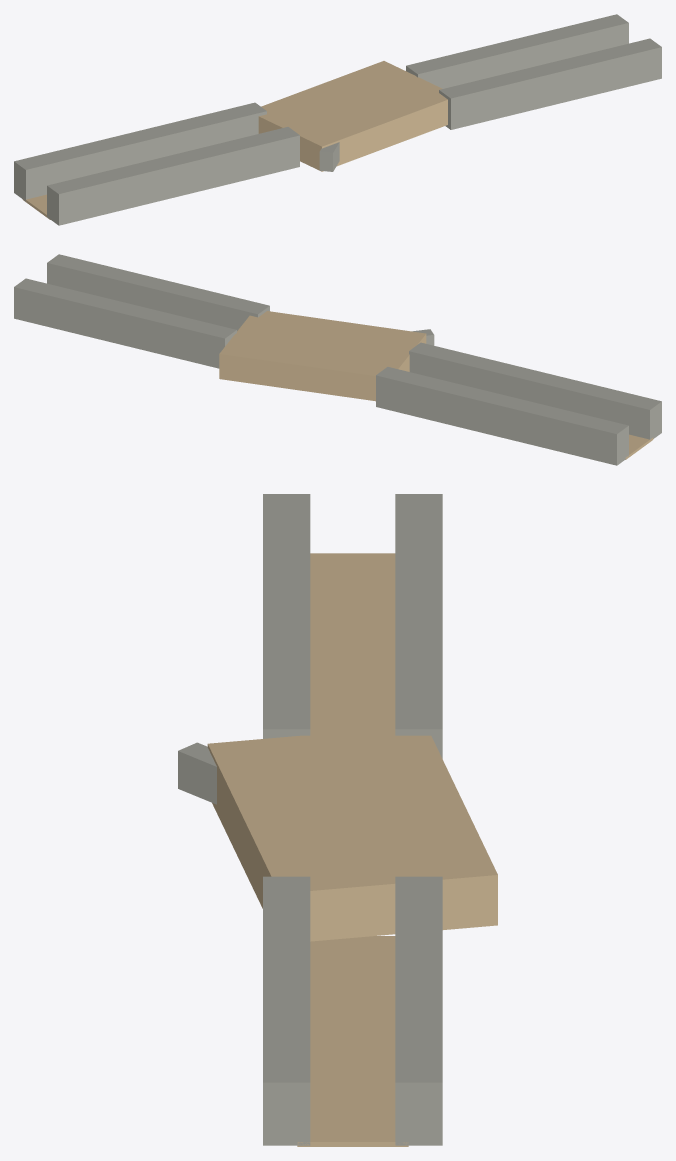
Rendered from SM_Acequia_v4_Cegada_LOD1.fbx.
3 renders of one model, top to bottom at view 1: azimuth 30°, elevation 25°; view 2: azimuth 150°, elevation 25°; view 3: azimuth 270°, elevation 25°, orthographic. The views are drawn at different scales.
Visible parts, largest first — view 1: SM_huerta_nules_v19_LOD1; view 2: SM_huerta_nules_v19_LOD1; view 3: SM_huerta_nules_v19_LOD1.
Boxes of the visible parts, x1,y1,x2,y2 form: SM_huerta_nules_v19_LOD1: (14, 14, 661, 225); SM_huerta_nules_v19_LOD1: (14, 254, 661, 465); SM_huerta_nules_v19_LOD1: (178, 494, 497, 1146).
Bounding box in the file's own units: 10 × 0.51 × 2.3.
